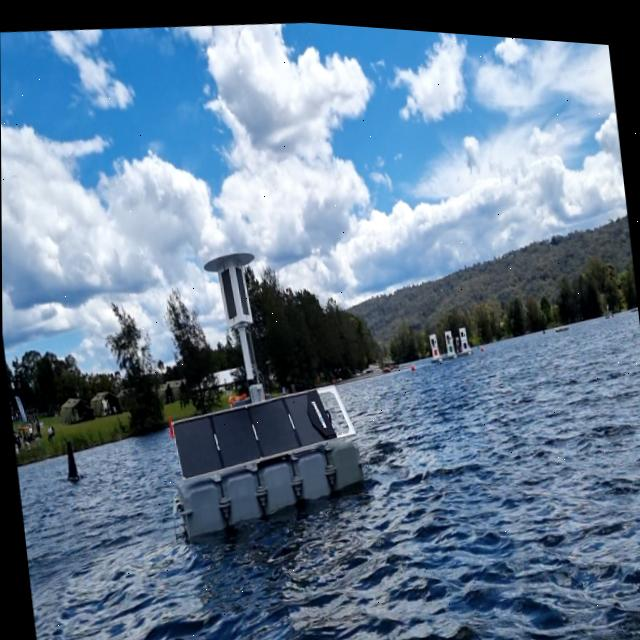led: (220, 265, 237, 316), (233, 261, 248, 311)
